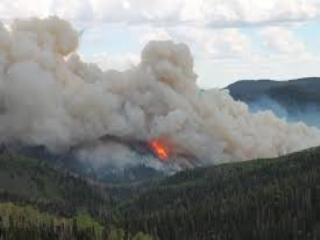fire: (146, 137, 174, 160)
smoke: (2, 17, 312, 145)
